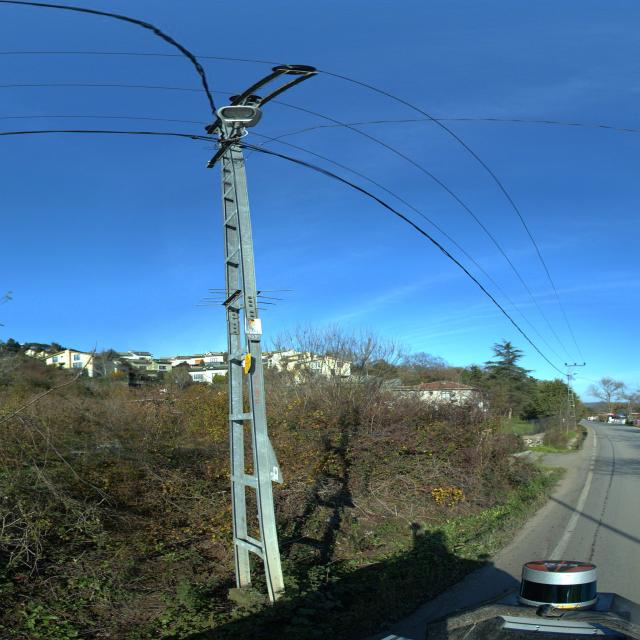Utility Pole Information Plate: (245, 318, 263, 334), (244, 353, 251, 373)
